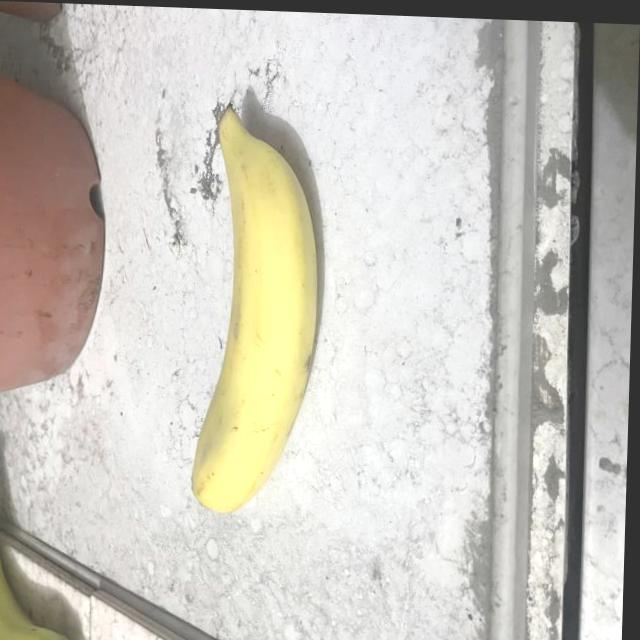banana: (192, 95, 328, 517)
